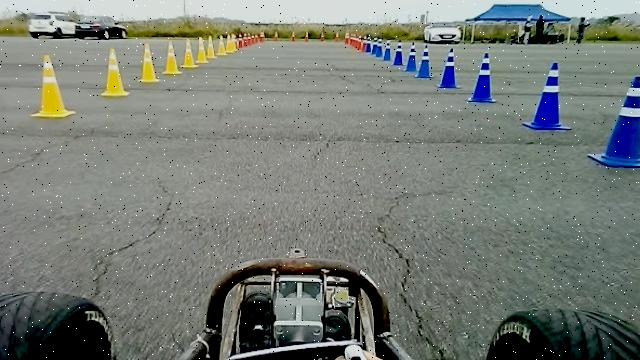blue cone: (588, 75, 640, 168), (522, 61, 572, 130), (468, 52, 497, 102), (437, 47, 462, 88), (415, 43, 435, 78), (404, 41, 418, 72), (392, 40, 406, 65), (383, 40, 392, 61)
yellow cone: (31, 54, 77, 117), (102, 46, 130, 96), (138, 42, 161, 82), (163, 40, 183, 74), (180, 38, 199, 67), (197, 36, 210, 63), (206, 35, 218, 58), (217, 34, 228, 55)
